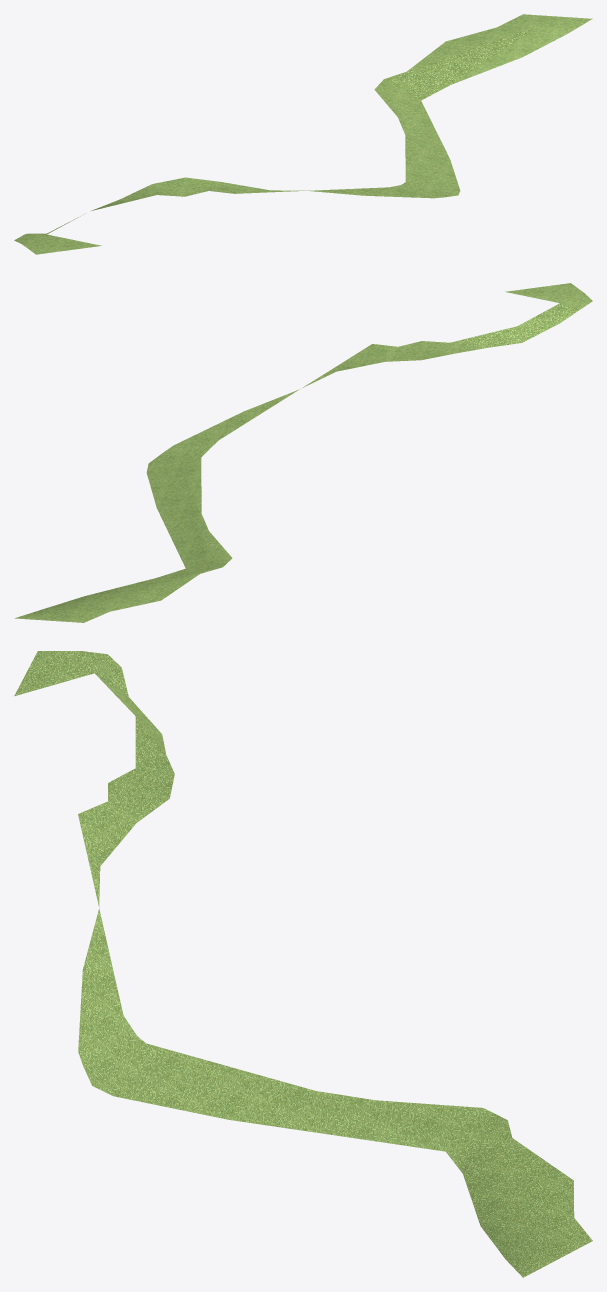
Rendered from kd_connection_town-ground_surface_2_15.glb.
3 views of the same model, one above another, from view 1: azimuth 30°, elevation 25°; view 2: azimuth 210°, elevation 25°; view 3: azimuth 270°, elevation 25° (orthographic). The views are drawn at different scales.
Parts seen in each view (by area): view 1: kd_connection_town-ground_surface_2_15; view 2: kd_connection_town-ground_surface_2_15; view 3: kd_connection_town-ground_surface_2_15.
Part boxes in pixels (x1,y1,x2,y2): kd_connection_town-ground_surface_2_15: (14,14,592,254); kd_connection_town-ground_surface_2_15: (15,283,592,622); kd_connection_town-ground_surface_2_15: (14,651,592,1277).
Size of the model in its own units: 80.69 by 7.13 by 36.02.
Materials: 1 (1 with a texture image).
